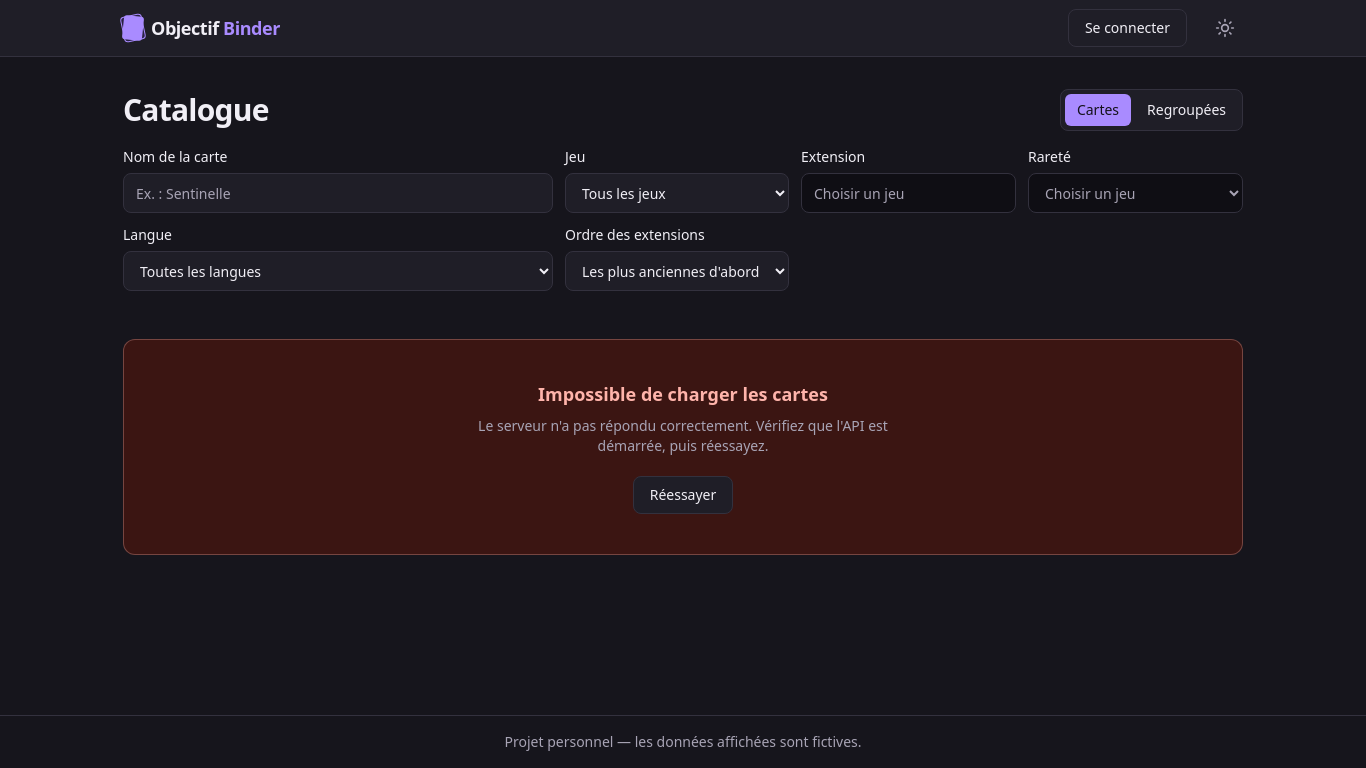
CardSearchPage › empty and error states › reports a server error and recovers when retrying
Expected: the message that starts with "Impossible de charger les cartes" is shown, x1=538 y1=382 x2=828 y2=406
Click the button "Réessayer": (683, 495) x1=633 y1=476 x2=733 y2=514
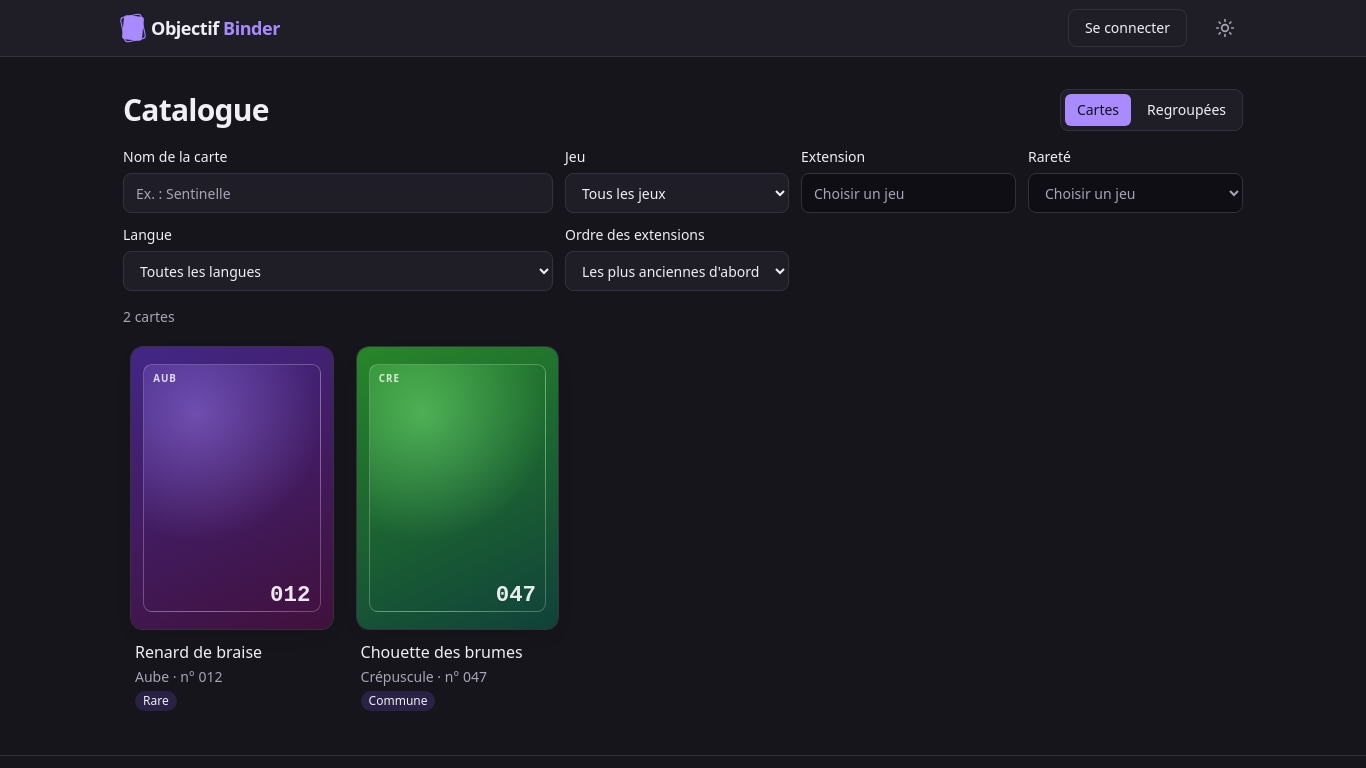
Expected: the heading "Renard de braise" is shown, x1=135 y1=641 x2=262 y2=663
